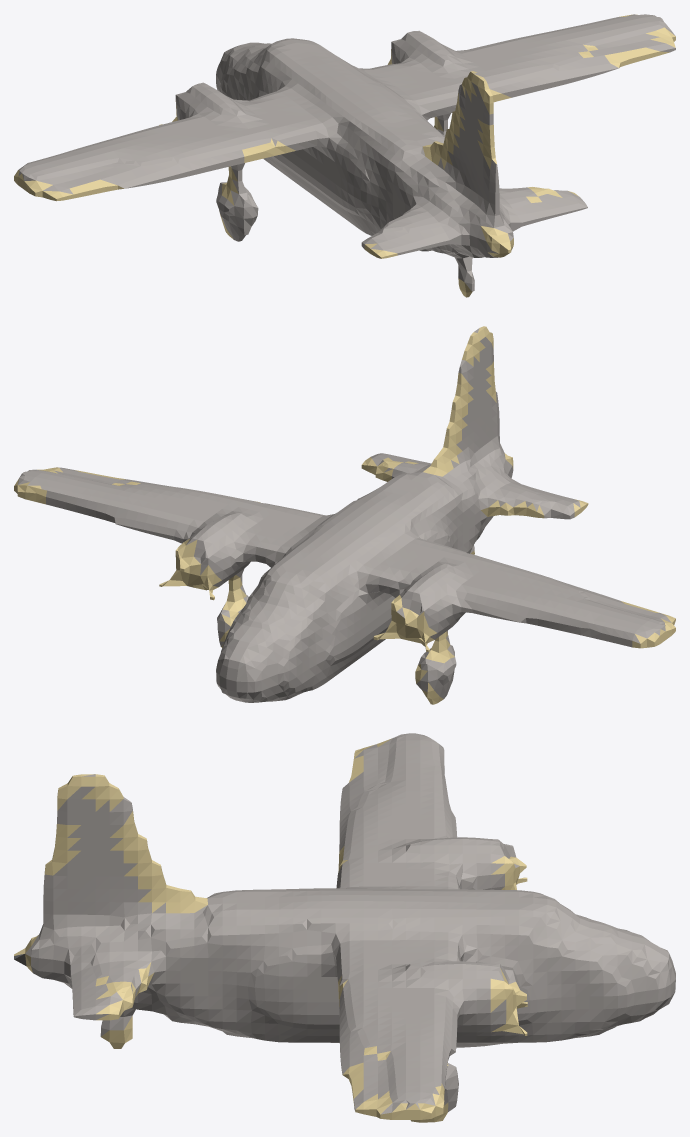
The model's file is unit_kondor.glb.
3 views of the same model, one above another, from view 1: azimuth 30°, elevation 25°; view 2: azimuth 150°, elevation 25°; view 3: azimuth 270°, elevation 25° (orthographic). The views are drawn at different scales.
Visible parts, largest first — view 1: Mesh_0.032; view 2: Mesh_0.032; view 3: Mesh_0.032.
Boxes of the visible parts, left/top/right/bottom form: Mesh_0.032: left=14, top=14, right=675, bottom=297; Mesh_0.032: left=14, top=326, right=675, bottom=704; Mesh_0.032: left=14, top=733, right=675, bottom=1122.
Bounding box in the file's own units: 6.12 × 2.2 × 4.6.
